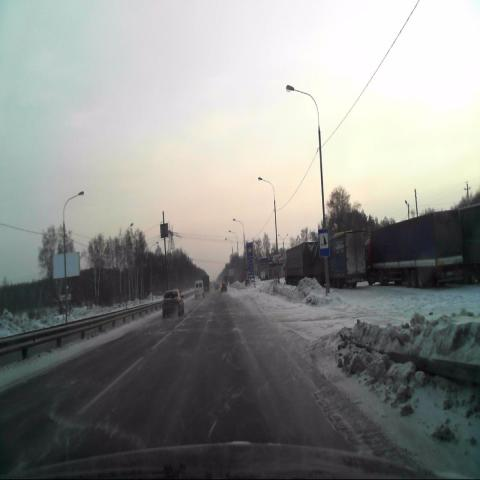7_11: (317, 230, 330, 258)
